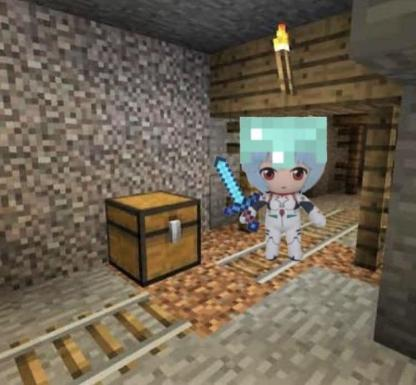rei-plush: (221, 123, 335, 266)
